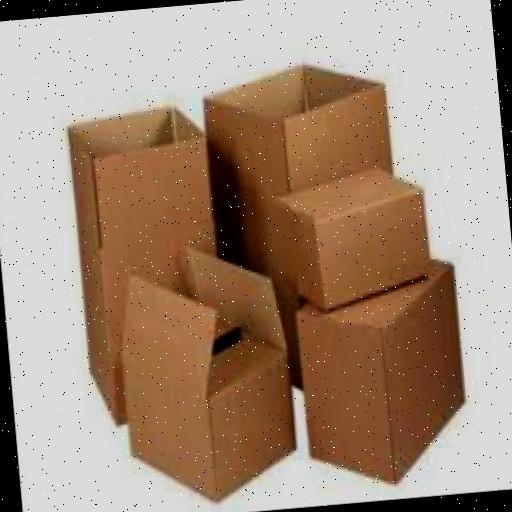cardboard: (202, 54, 412, 396), (67, 102, 232, 428), (113, 238, 300, 508), (294, 254, 474, 492), (272, 160, 434, 317)
